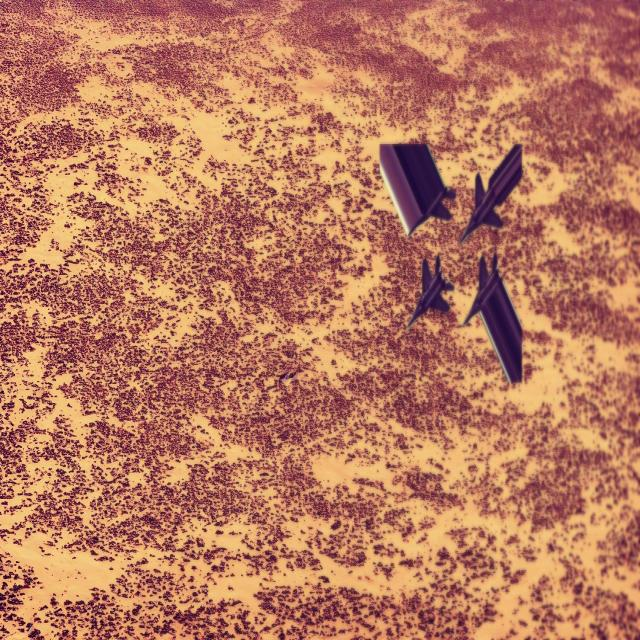airplane: (463, 251, 523, 385), (379, 141, 453, 238), (459, 142, 523, 244), (406, 254, 454, 329)
